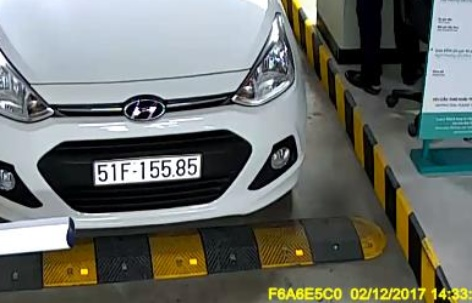plate: (94, 154, 203, 184)
